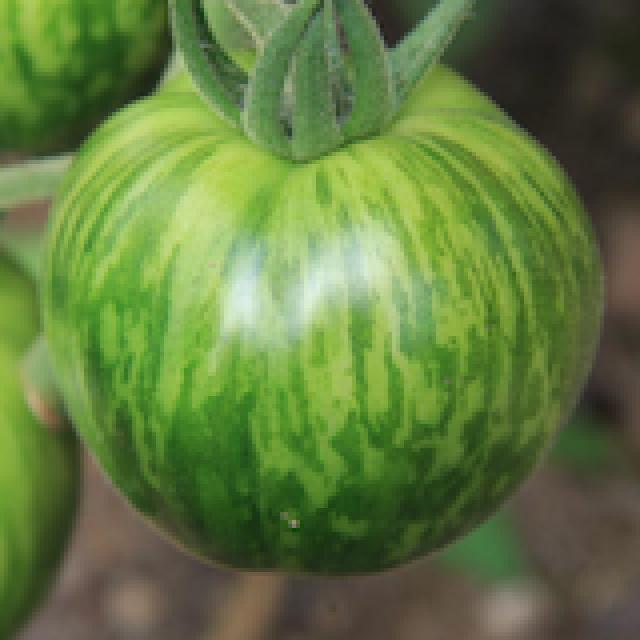yesil: (45, 38, 602, 586)
